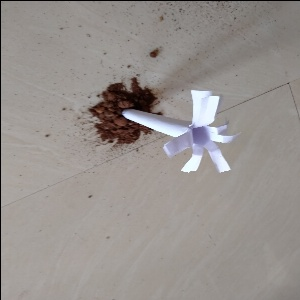weed: (118, 78, 241, 181)
